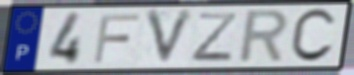4: (46, 10, 85, 68)
C: (287, 7, 339, 66)
F: (91, 12, 142, 65)
R: (235, 7, 292, 66)
V: (143, 7, 198, 69)
Z: (188, 11, 240, 63)
